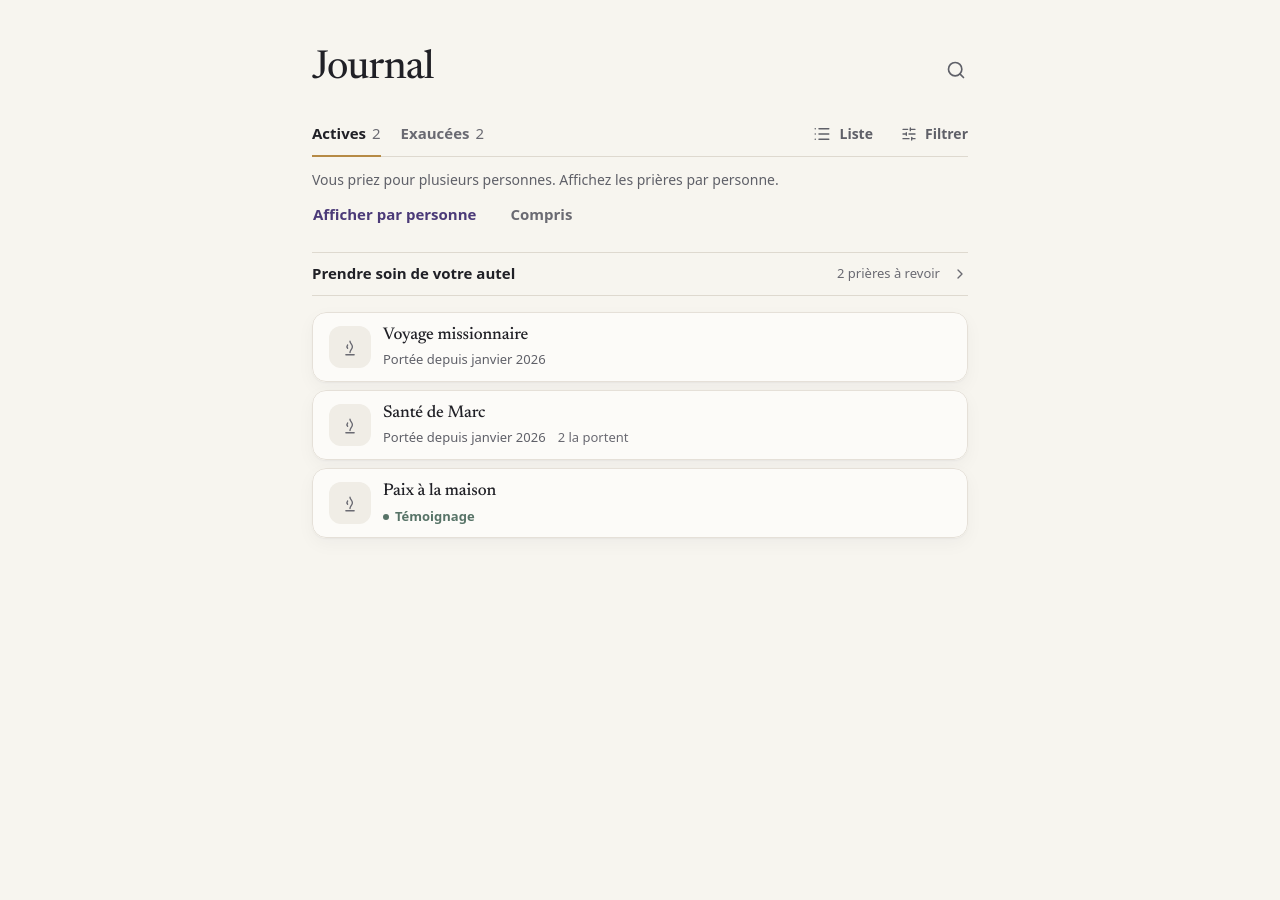
Test case: Journal retrieval › offers a simple answered-date choice: this month or earlier
Click the button "Exaucées2".
click(442, 134)  # box [401, 112, 484, 156]
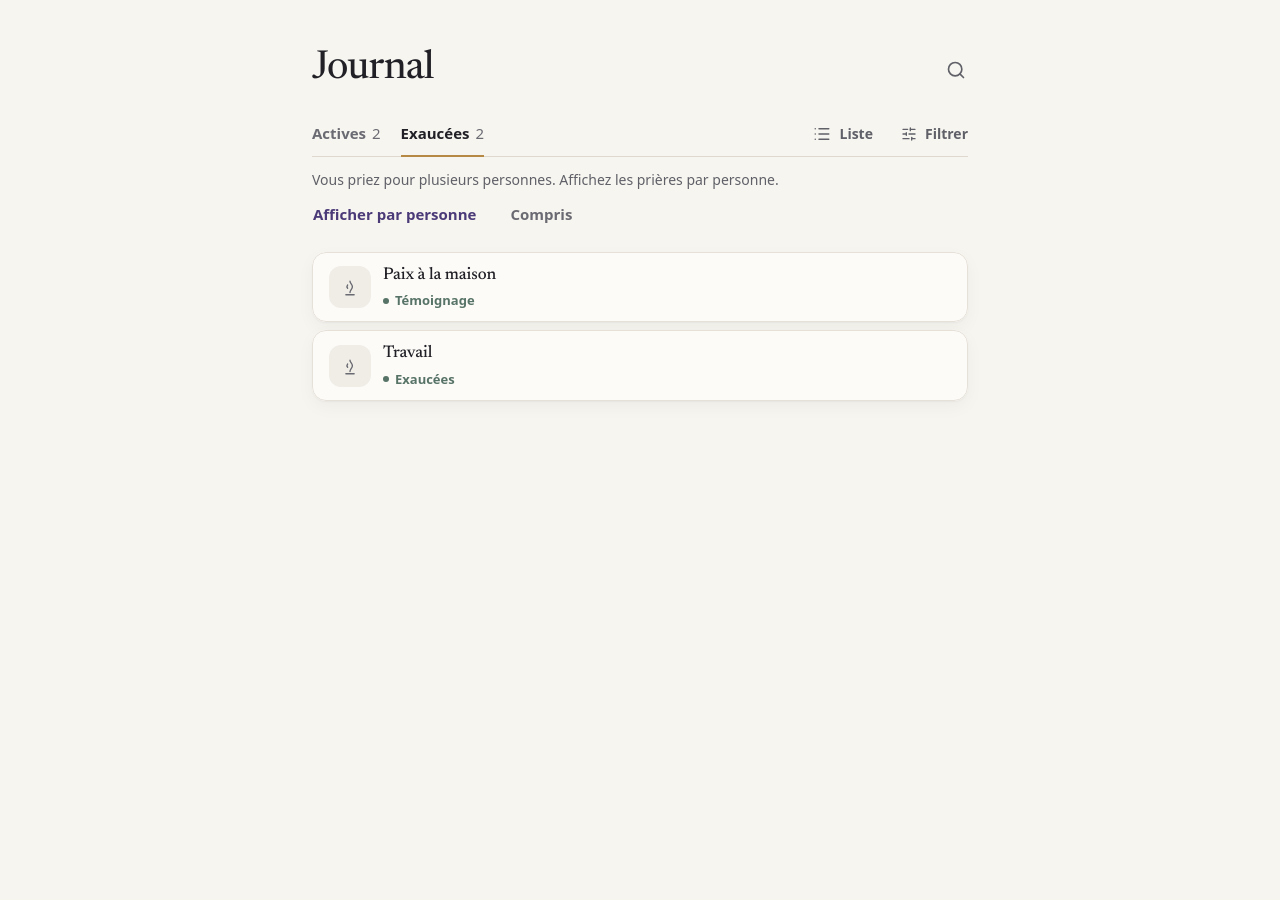
Click the button named "Rechercher...".
click(956, 70)  # box [934, 48, 978, 92]
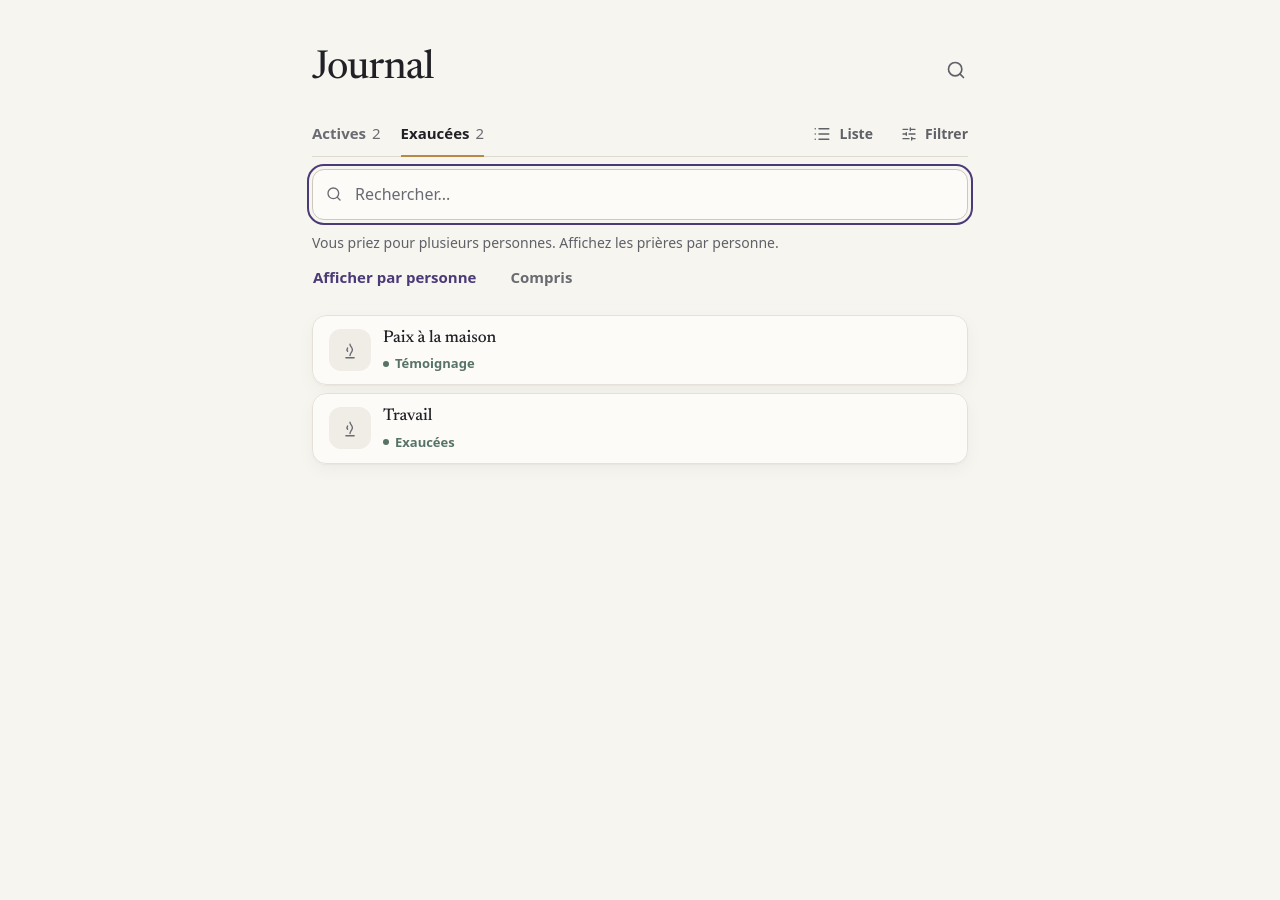
Click the button "Filtrer".
click(934, 134)  # box [889, 112, 980, 156]
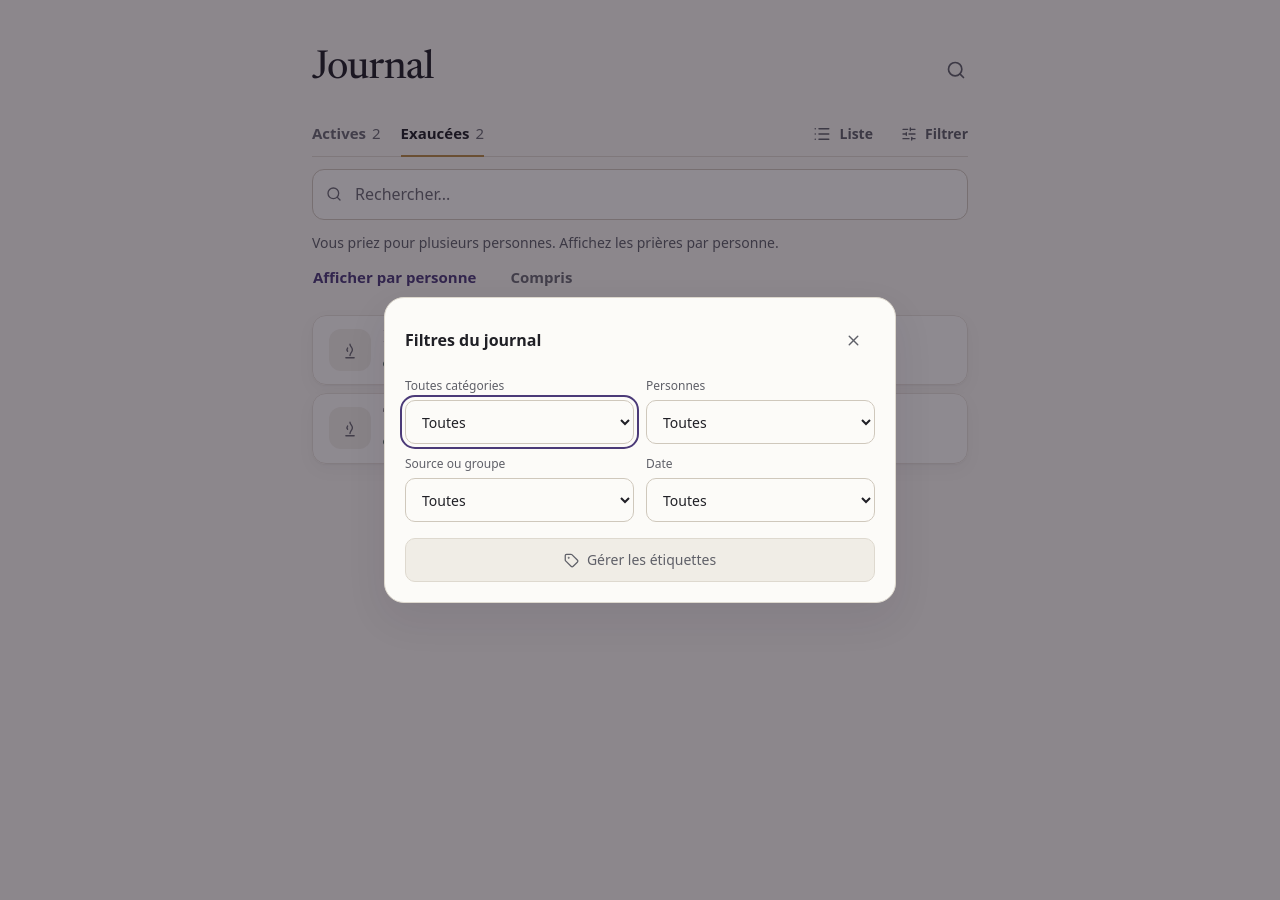
Select "Auparavant" in the dropdown labelled "Date" at (760, 500), box [646, 478, 875, 522]
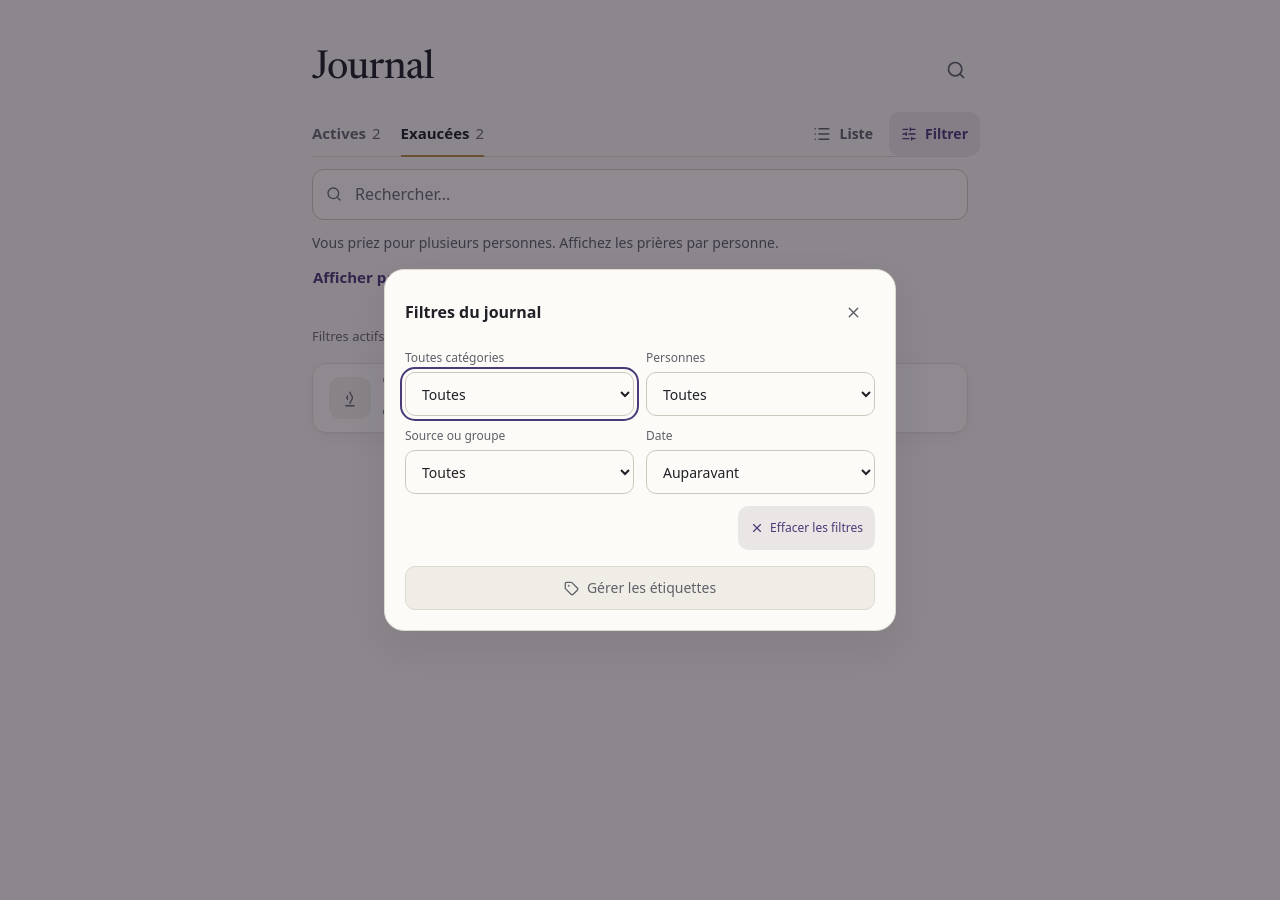
expect the text "Travail" is shown: met, box [383, 378, 432, 394]
expect the button "Paix à la maison" is gone: met
